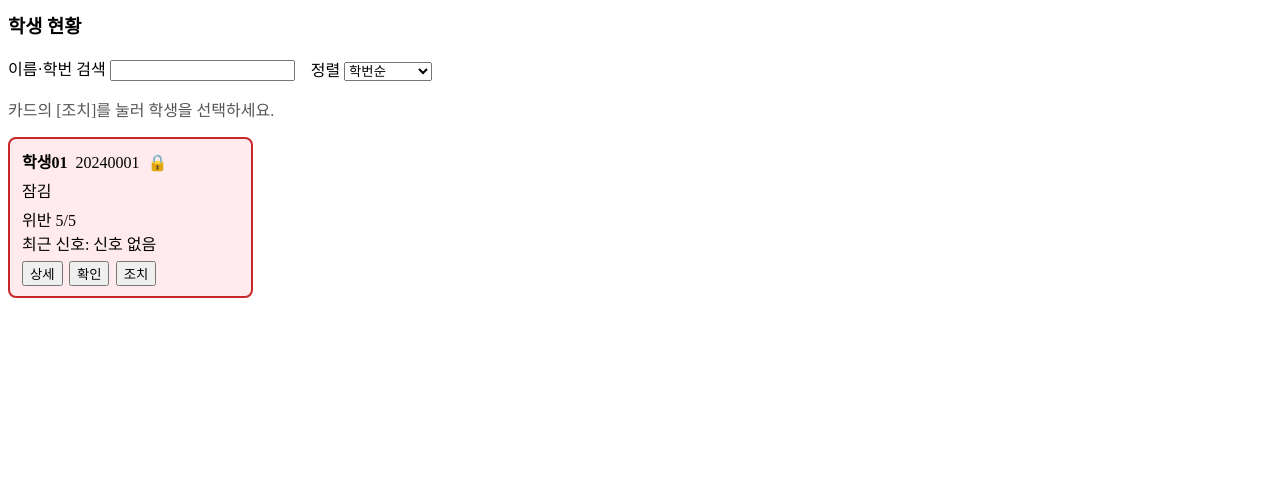
Scenario: 감독 대시보드 › 잠긴 학생: [재개]와 "잠겨 있던 시간 n분 추가"(pausedAt 기준 올림 분)가 보이고 addPausedTime으로 RESUME을 보낸다
Later steps or results of the test are not shown.
Click the button "조치" at [136, 274], box [116,261,156,286]
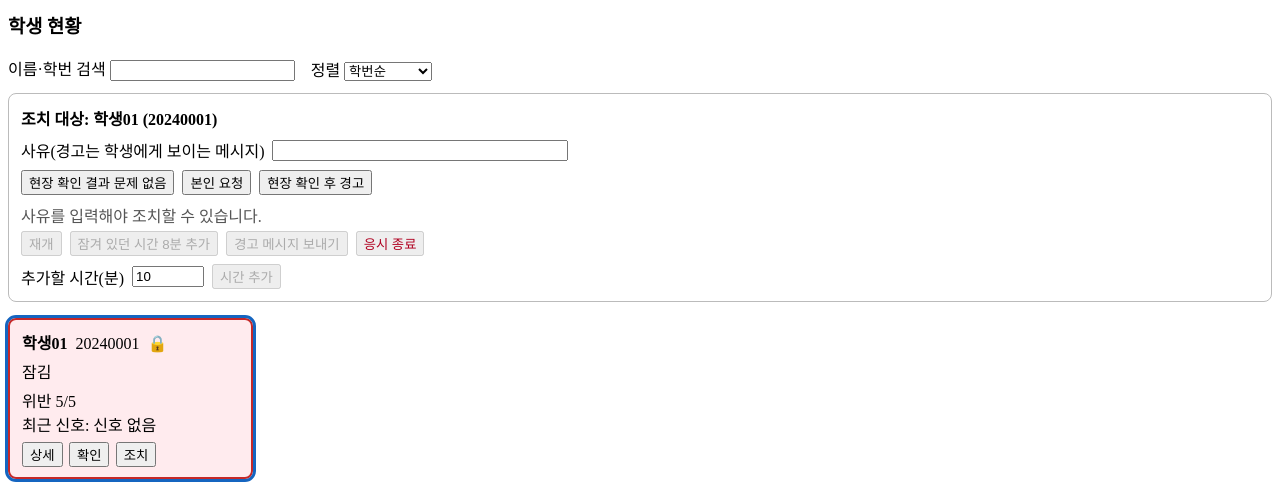
Click the button "현장 확인 결과 문제 없음" at [98, 183], box [21,170,174,195]
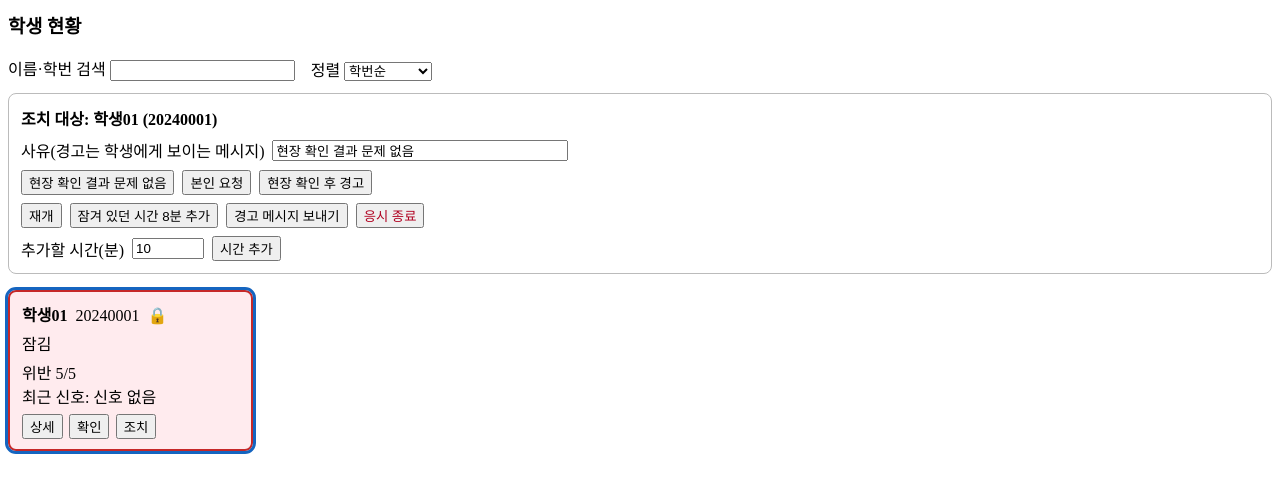
Click the button "잠겨 있던 시간 8분 추가" at [144, 216], box [70,203,218,228]
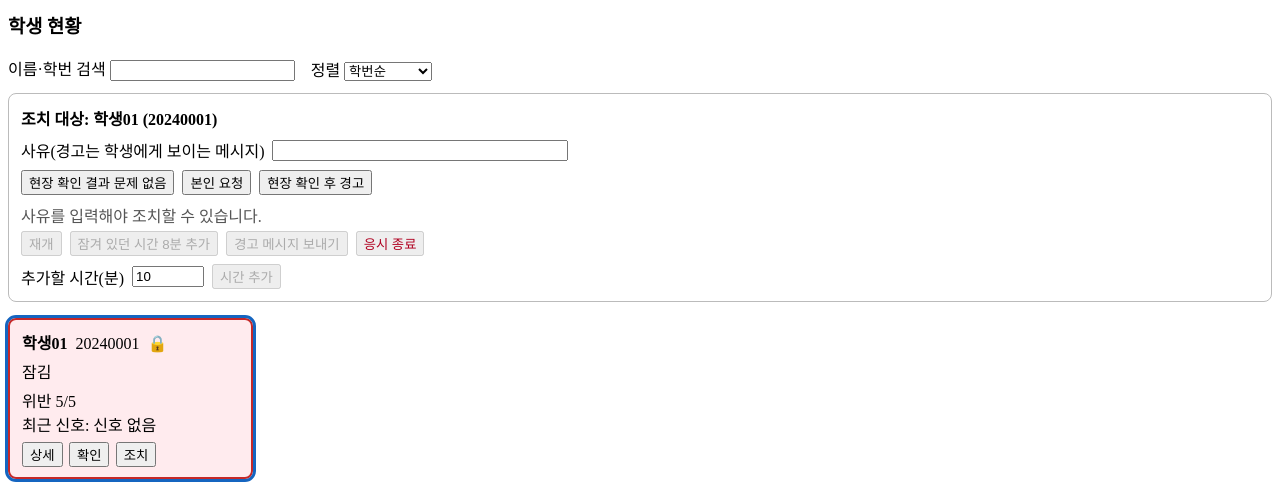
Expected: the field labelled "사유(경고는 학생에게 보이는 메시지)" is empty, [272,140,568,161]
